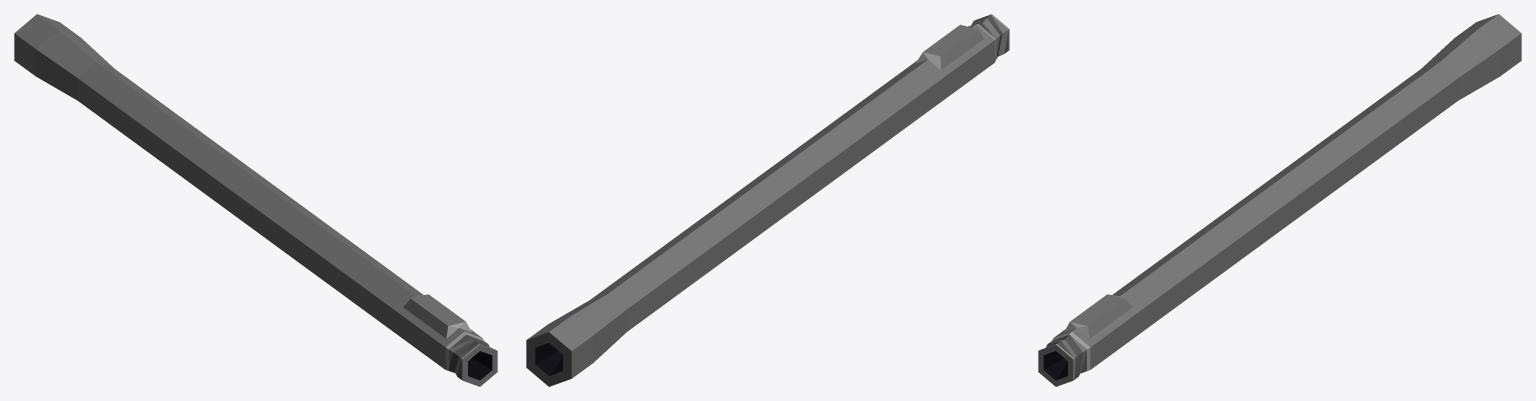
File: MW1_Barrel_12ga_18in_02.fbx
The picture shows the model from 3 angles, left to right: view 1: azimuth 30°, elevation 25°; view 2: azimuth 150°, elevation 25°; view 3: azimuth 330°, elevation 25°; orthographic projection.
Parts seen in each view (by area): view 1: Barrel_12ga_18in_02; view 2: Barrel_12ga_18in_02; view 3: Barrel_12ga_18in_02.
Boxes of the visible parts, x1,y1,x2,y2 form: Barrel_12ga_18in_02: (14, 14, 497, 386); Barrel_12ga_18in_02: (526, 14, 1009, 386); Barrel_12ga_18in_02: (1038, 14, 1521, 386).
Bounding box in the file's own units: 2.71 × 3.13 × 45.71.
